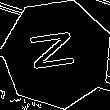N_E: (29, 30, 85, 77)
